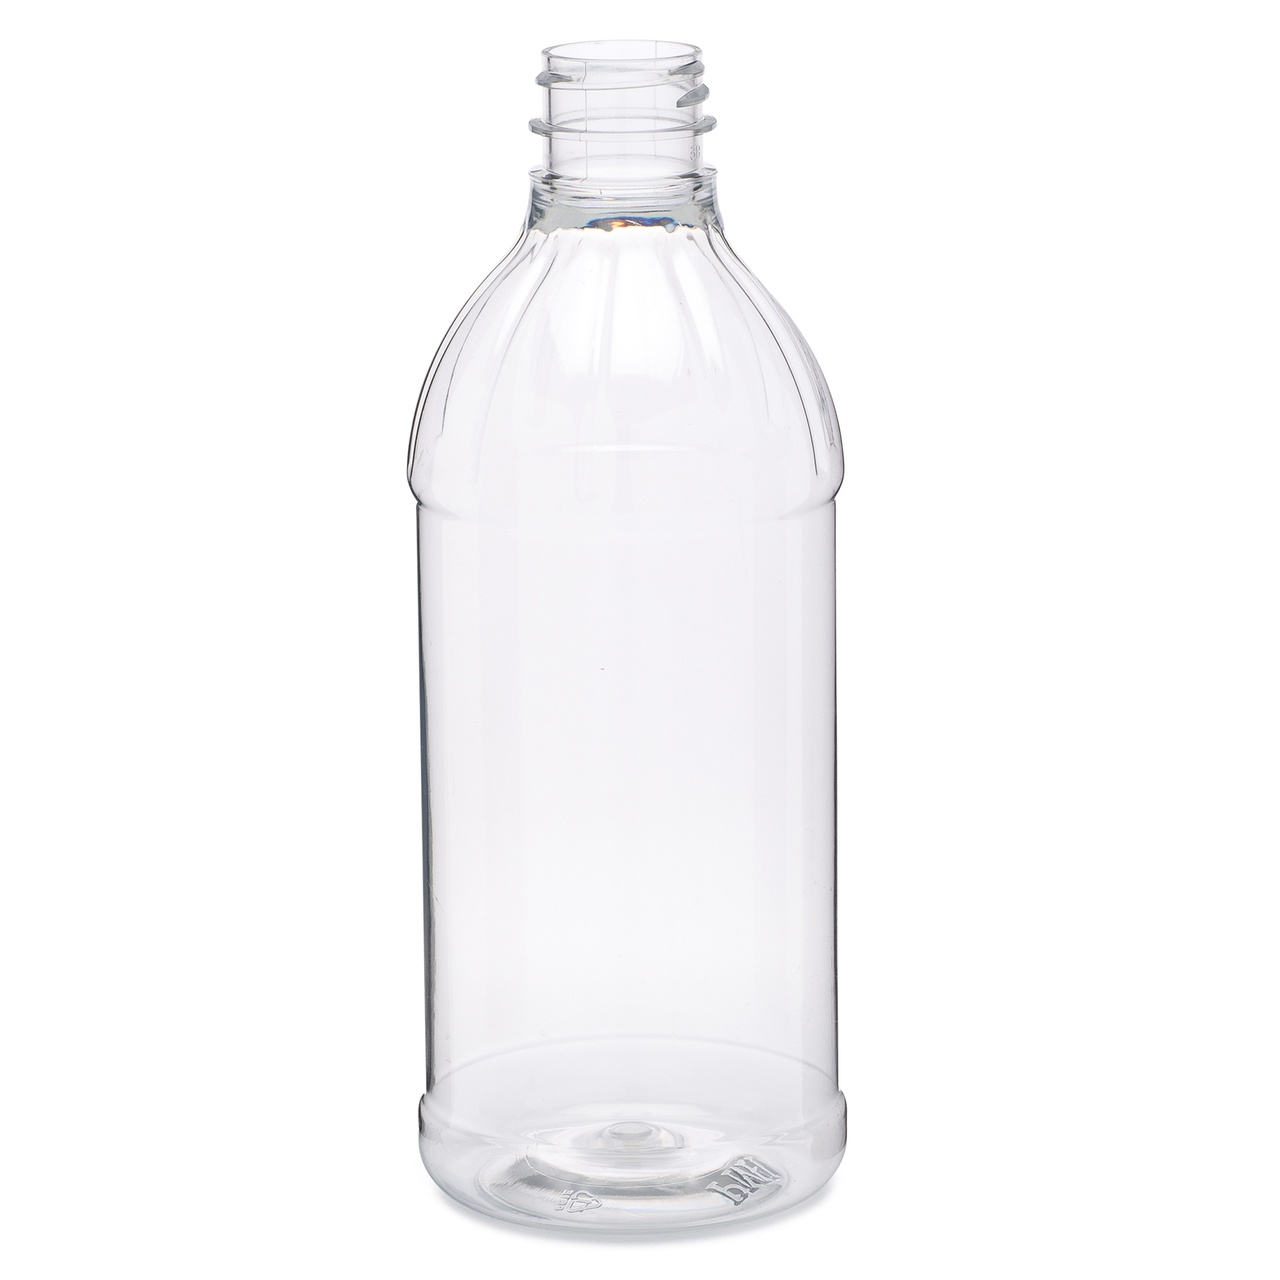emptybottle: (407, 36, 849, 1244)
